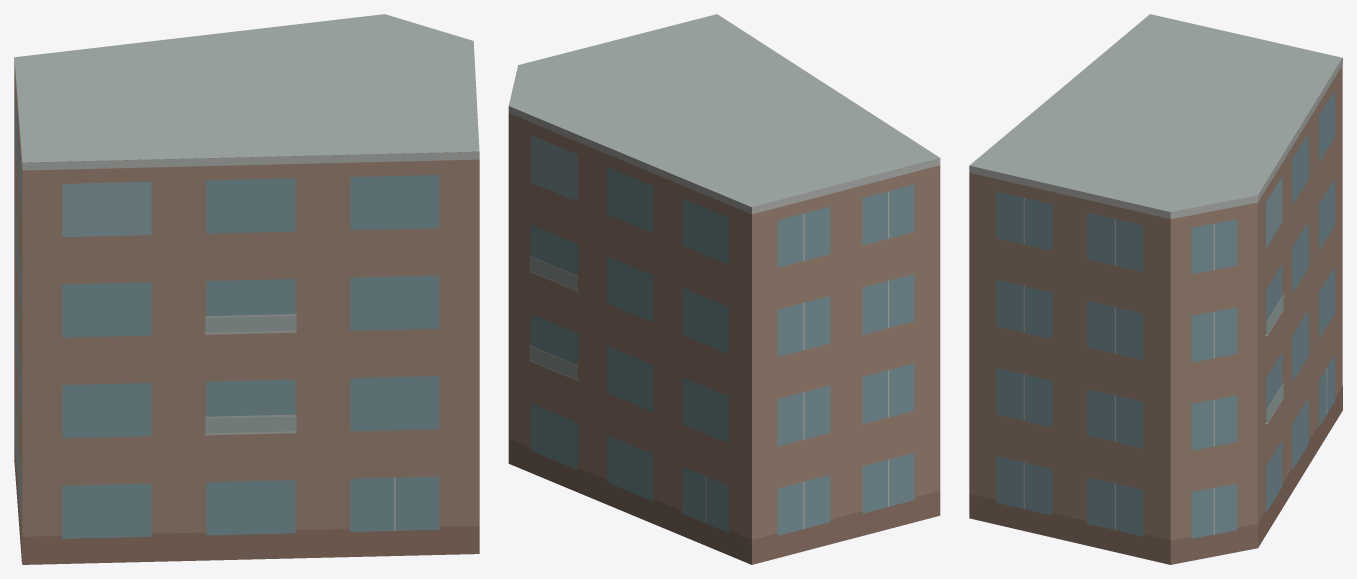
The model's file is survey-upis-32939079.glb.
The picture shows the model from 3 angles, left to right: view 1: azimuth 30°, elevation 25°; view 2: azimuth 150°, elevation 25°; view 3: azimuth 270°, elevation 25°; orthographic projection. The views are drawn at different scales.
Parts seen in each view (by area): view 1: survey-upis-32939079.tmp; view 2: survey-upis-32939079.tmp; view 3: survey-upis-32939079.tmp.
Part boxes in pixels (x1,y1,x2,y2): survey-upis-32939079.tmp: [14, 14, 479, 564]; survey-upis-32939079.tmp: [508, 14, 940, 564]; survey-upis-32939079.tmp: [969, 14, 1342, 564].
Size of the model in its own units: 14.71 by 12.2 by 11.72.
